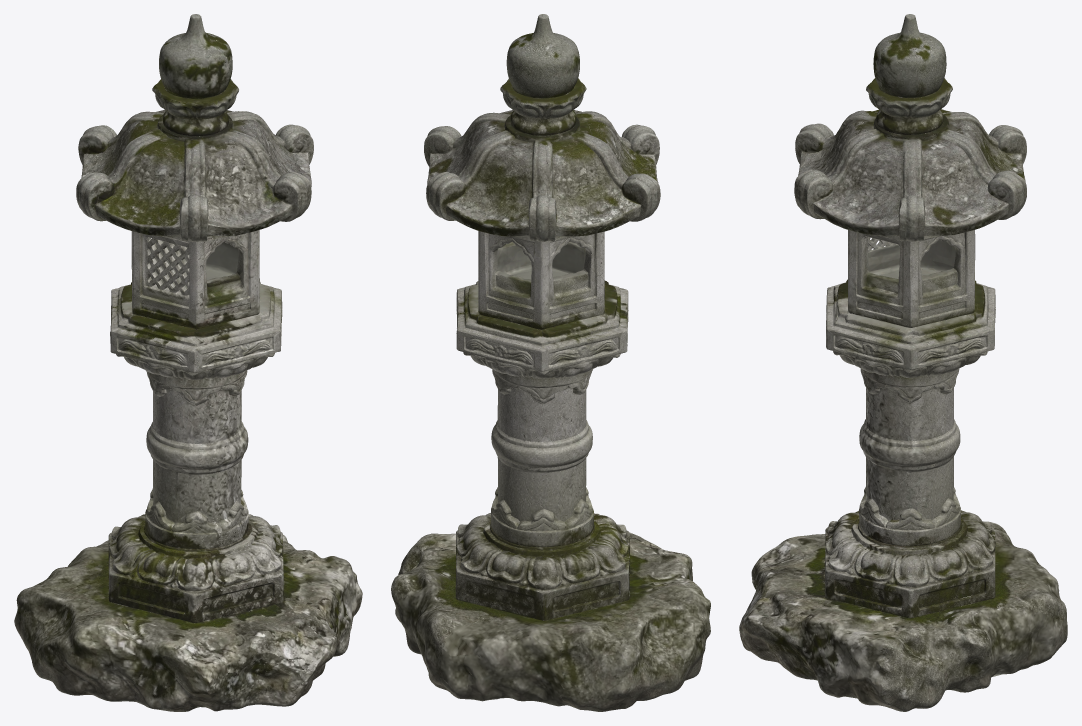
Rendered from lantern.glb.
3 renders of one model, left to right at view 1: azimuth 30°, elevation 25°; view 2: azimuth 150°, elevation 25°; view 3: azimuth 270°, elevation 25°, orthographic.
Visible parts, largest first — view 1: Mesh_0; view 2: Mesh_0; view 3: Mesh_0.
Part boxes in pixels (x1,y1,x2,y2): Mesh_0: (14, 14, 362, 711); Mesh_0: (391, 14, 710, 711); Mesh_0: (739, 14, 1067, 711).
Size of the model in its own units: 0.9632 by 1.9 by 0.9011.
1 material, 1 textured.
